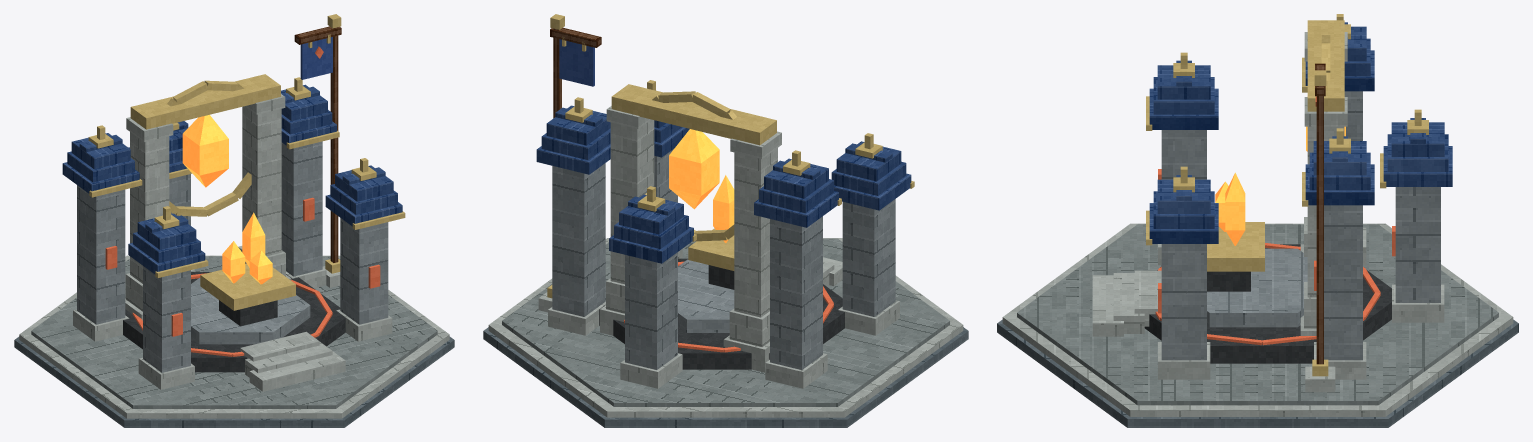
File: infernal_ritual_hex_v1.glb
3 views of the same model, side by side, from view 1: azimuth 30°, elevation 25°; view 2: azimuth 150°, elevation 25°; view 3: azimuth 270°, elevation 25° (orthographic). The views are drawn at different scales.
Visible parts, largest first — view 1: Infernal_Ritual_Hex_V1_Hall, Infernal_Ritual_Hex_V1_Foundation, Infernal_Ritual_Hex_V1_Roofs, Infernal_Ritual_Hex_V1_Courtyard, Infernal_Ritual_Hex_V1_Focus, Infernal_Ritual_Hex_V1_Faction, Infernal_Ritual_Hex_V1_Training; view 2: Infernal_Ritual_Hex_V1_Hall, Infernal_Ritual_Hex_V1_Foundation, Infernal_Ritual_Hex_V1_Roofs, Infernal_Ritual_Hex_V1_Focus, Infernal_Ritual_Hex_V1_Courtyard, Infernal_Ritual_Hex_V1_Faction, Infernal_Ritual_Hex_V1_Training; view 3: Infernal_Ritual_Hex_V1_Foundation, Infernal_Ritual_Hex_V1_Hall, Infernal_Ritual_Hex_V1_Roofs, Infernal_Ritual_Hex_V1_Courtyard, Infernal_Ritual_Hex_V1_Focus, Infernal_Ritual_Hex_V1_Faction, Infernal_Ritual_Hex_V1_Training.
Boxes of the visible parts, x1,y1,x2,y2 form: Infernal_Ritual_Hex_V1_Hall: [73, 74, 392, 389]; Infernal_Ritual_Hex_V1_Foundation: [14, 255, 454, 427]; Infernal_Ritual_Hex_V1_Roofs: [62, 77, 405, 277]; Infernal_Ritual_Hex_V1_Courtyard: [123, 272, 345, 391]; Infernal_Ritual_Hex_V1_Focus: [105, 80, 380, 336]; Infernal_Ritual_Hex_V1_Faction: [294, 14, 341, 287]; Infernal_Ritual_Hex_V1_Training: [132, 273, 332, 356]; Infernal_Ritual_Hex_V1_Hall: [548, 84, 899, 388]; Infernal_Ritual_Hex_V1_Foundation: [483, 238, 968, 427]; Infernal_Ritual_Hex_V1_Roofs: [536, 80, 914, 263]; Infernal_Ritual_Hex_V1_Focus: [645, 91, 736, 289]; Infernal_Ritual_Hex_V1_Courtyard: [599, 257, 844, 369]; Infernal_Ritual_Hex_V1_Faction: [538, 14, 601, 312]; Infernal_Ritual_Hex_V1_Training: [624, 261, 833, 352]; Infernal_Ritual_Hex_V1_Foundation: [997, 223, 1518, 427]; Infernal_Ritual_Hex_V1_Hall: [1158, 20, 1444, 379]; Infernal_Ritual_Hex_V1_Roofs: [1146, 14, 1452, 245]; Infernal_Ritual_Hex_V1_Courtyard: [1092, 244, 1391, 363]; Infernal_Ritual_Hex_V1_Focus: [1158, 35, 1395, 313]; Infernal_Ritual_Hex_V1_Faction: [1305, 63, 1335, 392]; Infernal_Ritual_Hex_V1_Training: [1155, 243, 1380, 345].
Bounding box in the file's own units: 1.59 × 1.29 × 1.84.
Materials: 1 (1 with a texture image).
